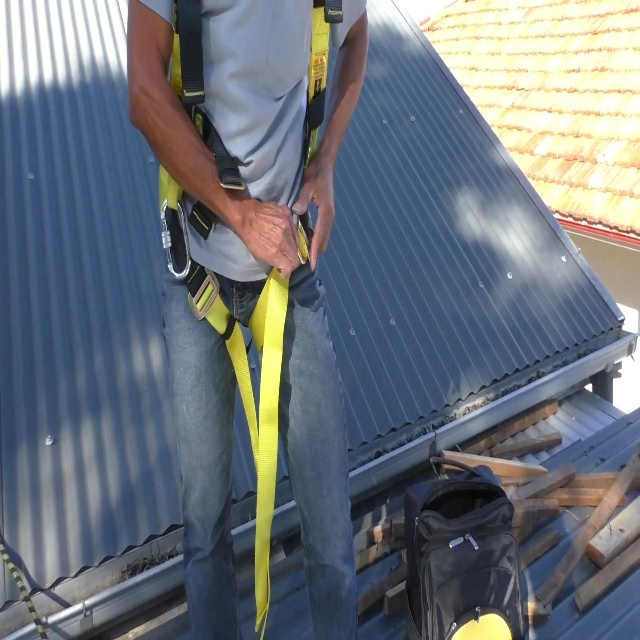Arnes_seguridad: (156, 0, 320, 640)
